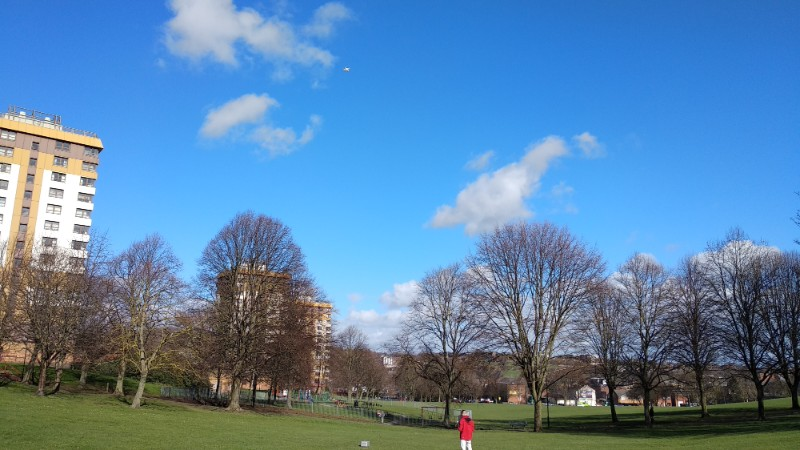drone: (343, 65, 352, 74)
